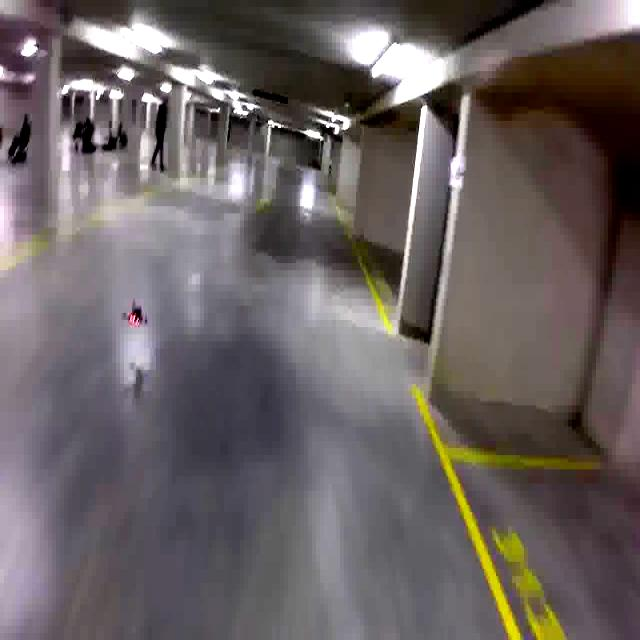drone: (118, 288, 156, 351)
